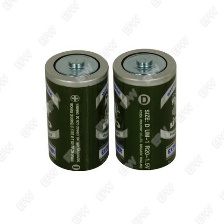battery: (41, 45, 111, 174), (109, 43, 178, 172)
